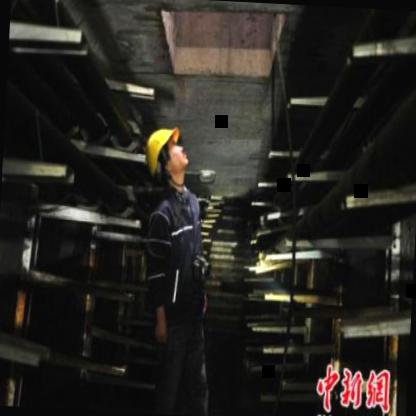helmet: (140, 124, 189, 192)
